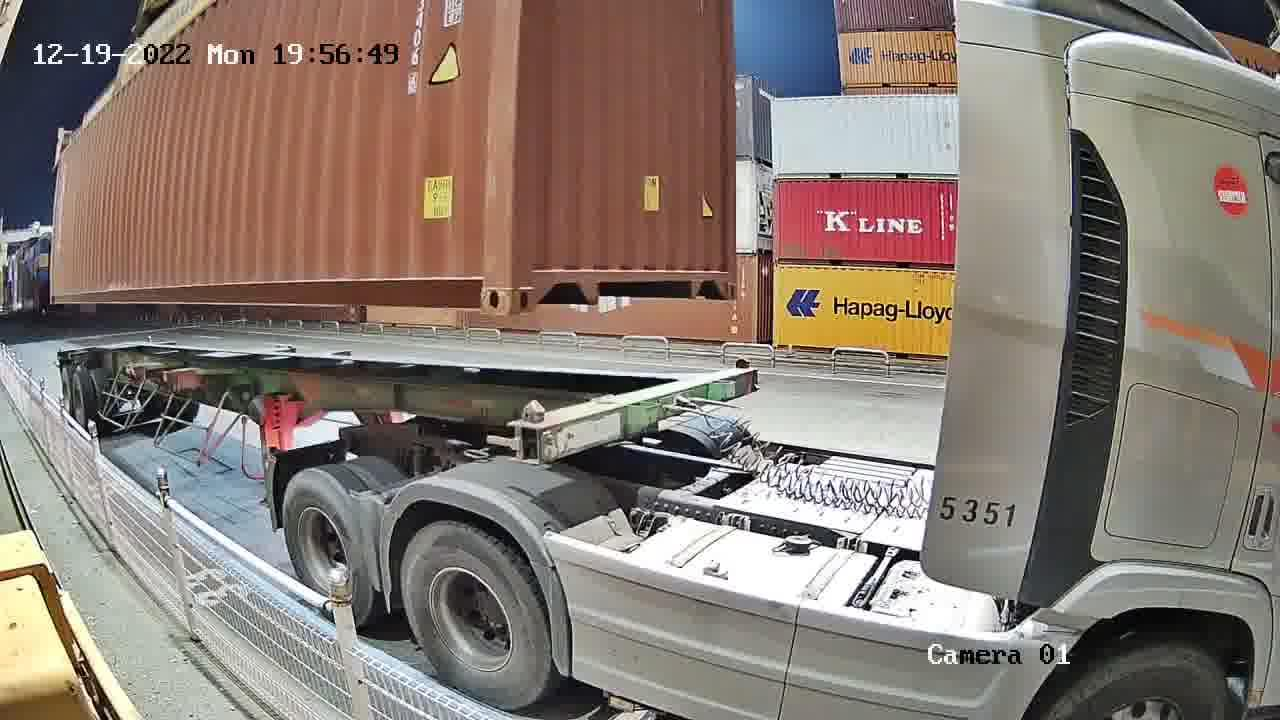Chassis: (508, 366, 753, 462)
Cone: (510, 397, 550, 464), (728, 353, 753, 370)
Hole_L: (512, 249, 571, 317)
Hole_R: (453, 248, 513, 317), (695, 245, 739, 300)
Tire: (402, 525, 548, 707), (282, 474, 367, 597)
